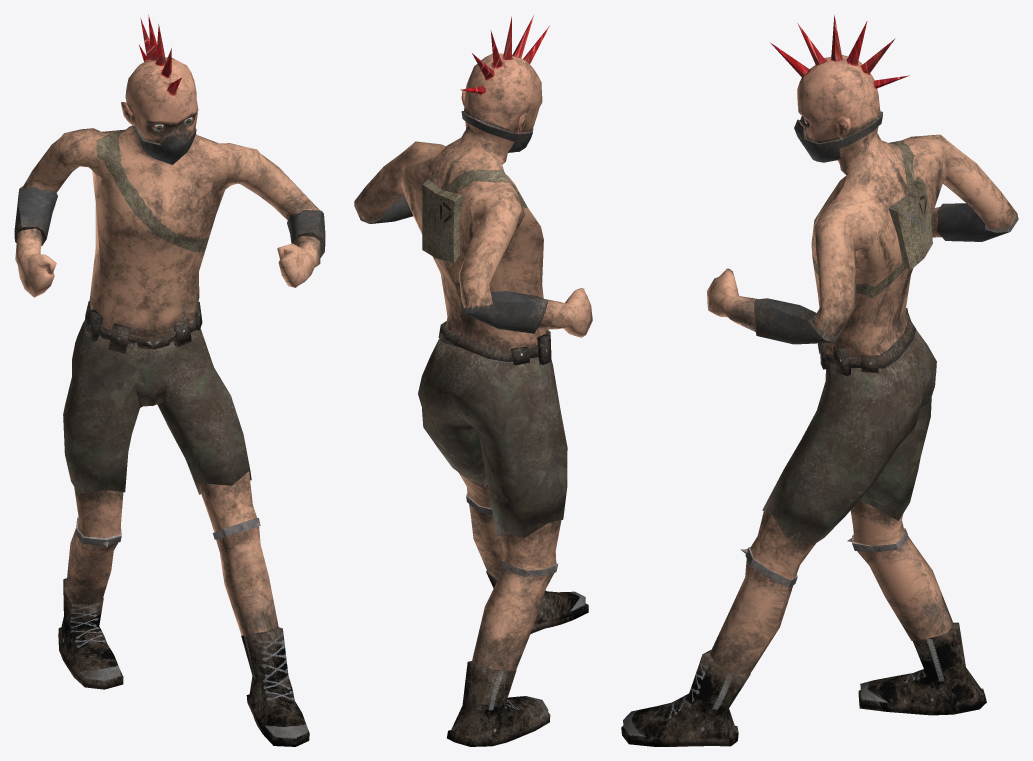
The model's file is Anim_ataque_d2_npc2.0017.obj.
The picture shows the model from 3 angles, left to right: view 1: azimuth 30°, elevation 25°; view 2: azimuth 150°, elevation 25°; view 3: azimuth 270°, elevation 25°; orthographic projection. The views are drawn at different scales.
Visible parts, largest first — view 1: polySurface1; view 2: polySurface1; view 3: polySurface1.
Part boxes in pixels (x1,y1,x2,y2): polySurface1: (14, 14, 325, 746); polySurface1: (354, 15, 592, 746); polySurface1: (621, 15, 1018, 746).
Bounding box in the file's own units: 4.05 × 9.82 × 5.
2 materials, 2 textured.
